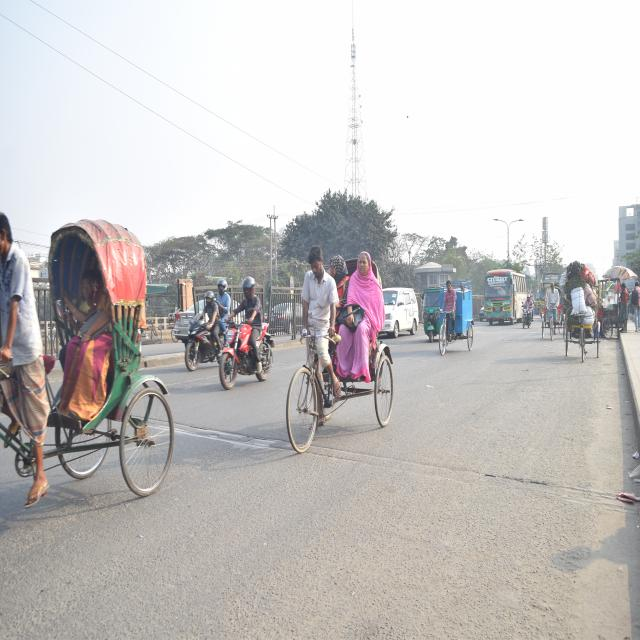bus: (484, 266, 524, 331), (538, 272, 562, 318)
car: (478, 304, 485, 320)
microbus: (381, 284, 421, 340)
motorbike: (211, 307, 273, 397), (176, 306, 220, 377), (520, 297, 533, 330)
